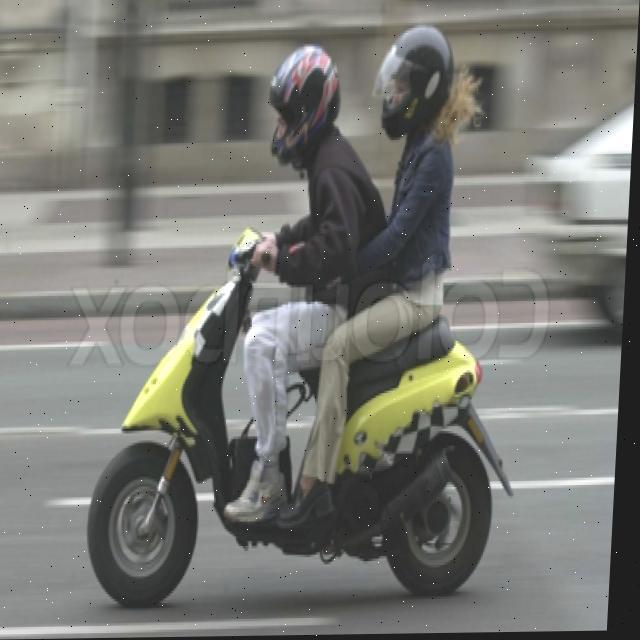Helmet: (265, 42, 342, 172)
